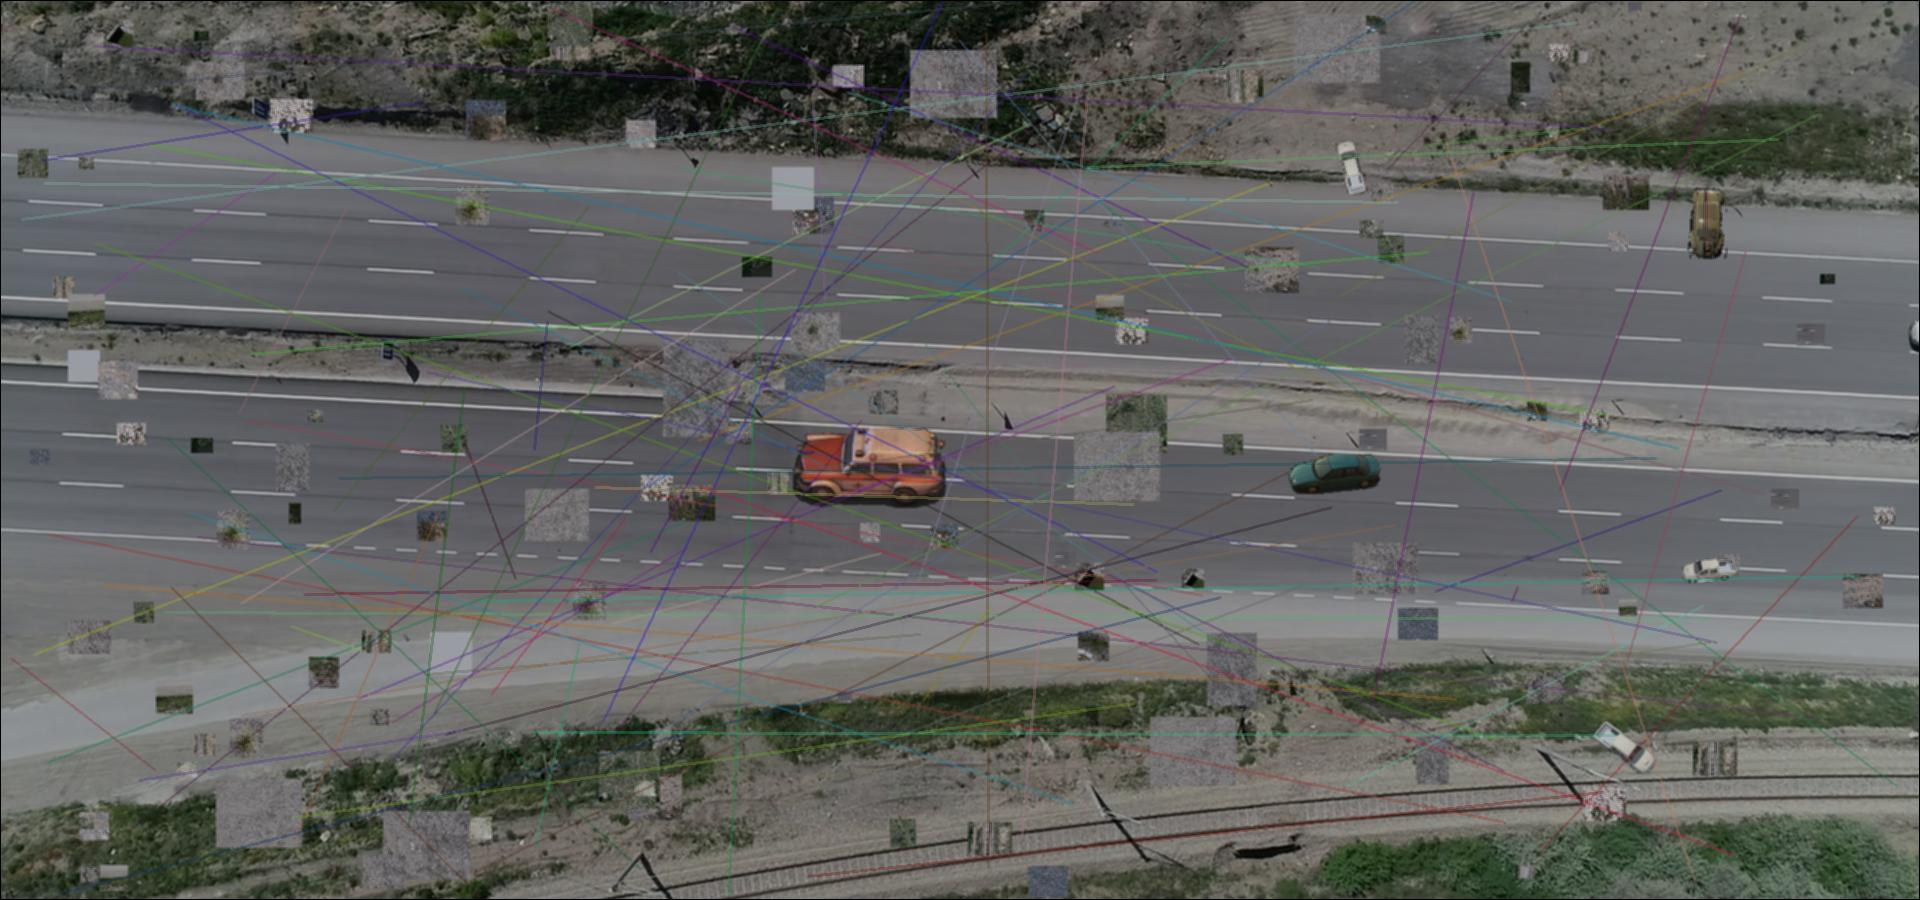arac: (790, 429, 948, 508), (1287, 454, 1381, 493), (1589, 720, 1658, 774), (1687, 189, 1727, 260), (1335, 138, 1369, 195), (1682, 556, 1739, 583)
